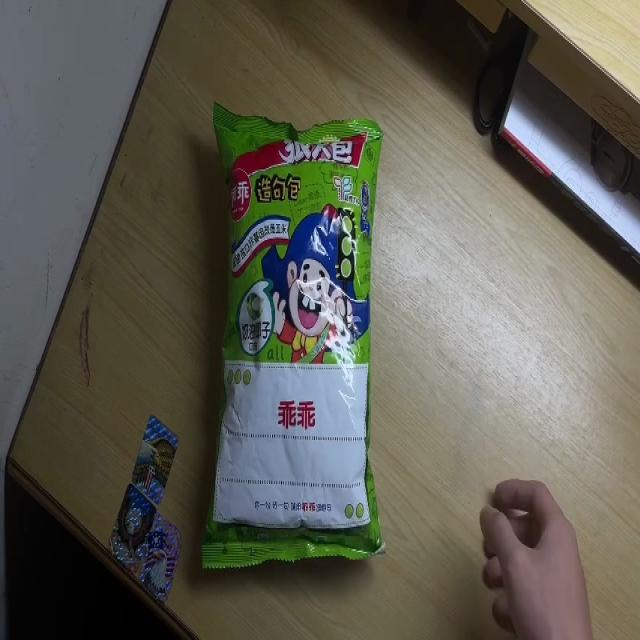Good-Luck: (201, 101, 385, 568)
